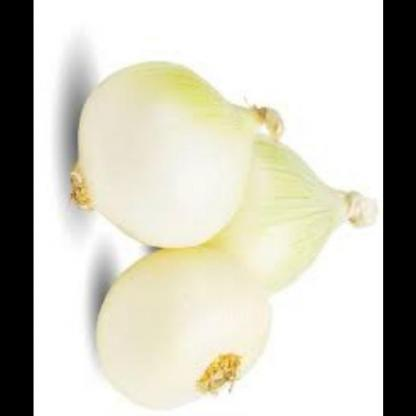onion: (66, 53, 286, 249), (86, 241, 278, 405), (224, 125, 376, 295)
